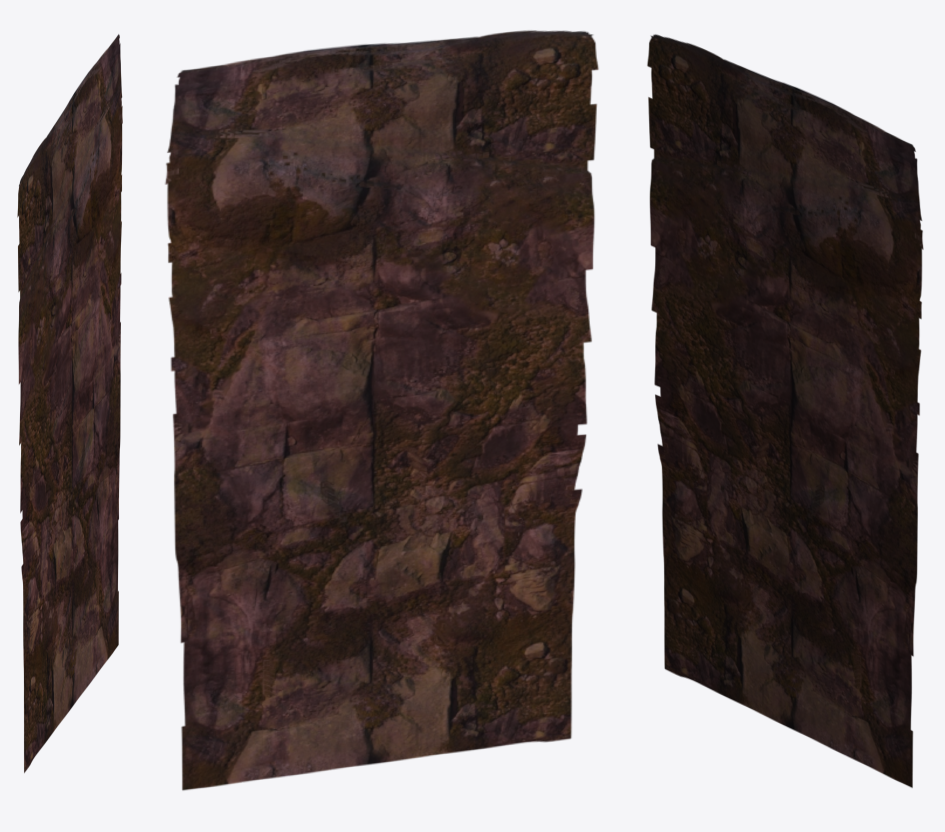
File: Background.glb
3 renders of one model, left to right at view 1: azimuth 30°, elevation 25°; view 2: azimuth 150°, elevation 25°; view 3: azimuth 270°, elevation 25°, orthographic. The views are drawn at different scales.
Visible parts, largest first — view 1: background; view 2: background; view 3: background.
Boxes of the visible parts, <box> form: background: <box>17,34,122,772</box>; background: <box>165,30,598,790</box>; background: <box>647,34,923,787</box>.
Bounding box in the file's own units: 107 × 262 × 102.
1 material, 1 textured.
